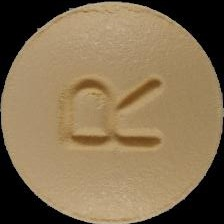55111-154: (0, 0, 224, 224)
